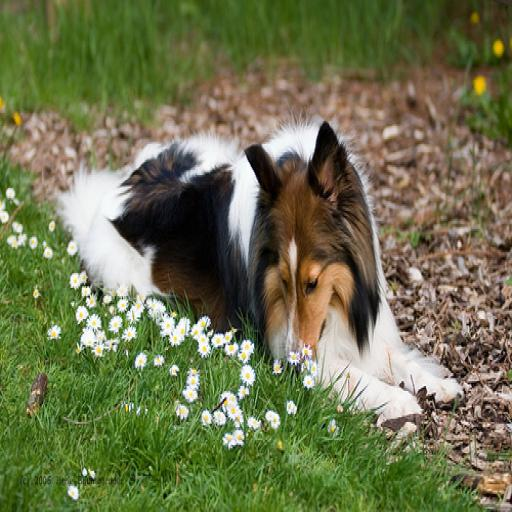dog_face: (240, 127, 364, 382)
